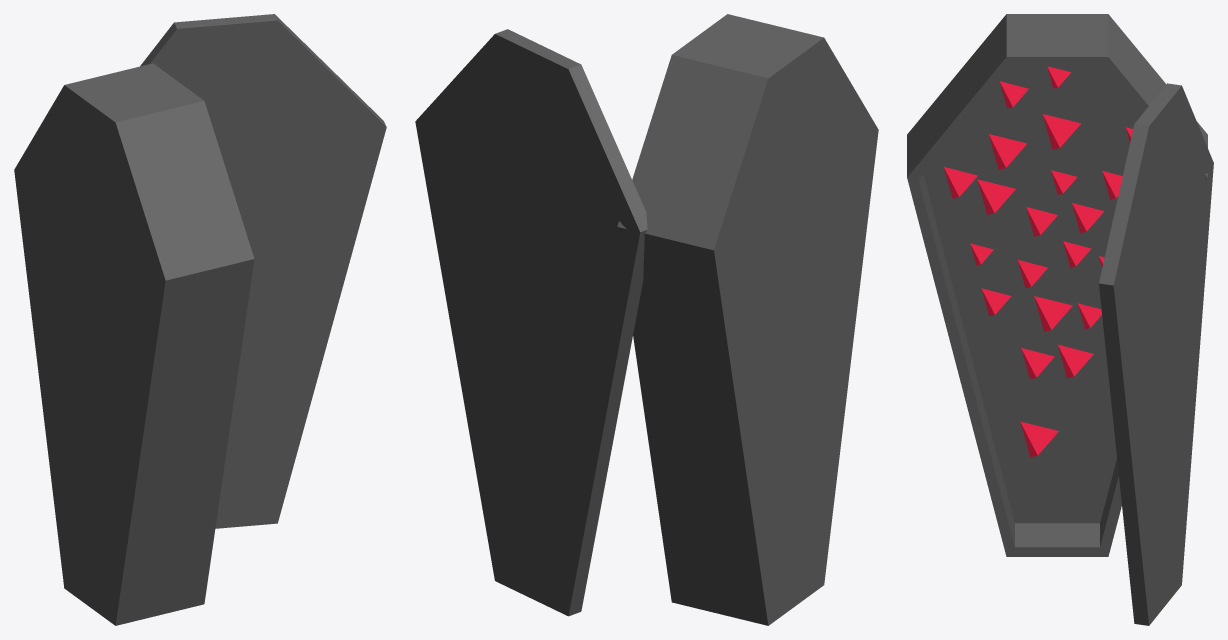
The model's file is torture_StMary.fbx.
3 renders of one model, left to right at view 1: azimuth 30°, elevation 25°; view 2: azimuth 150°, elevation 25°; view 3: azimuth 270°, elevation 25°, orthographic. The views are drawn at different scales.
Parts seen in each view (by area): view 1: StMary; view 2: StMary; view 3: StMary.
Boxes of the visible parts, x1=… form: StMary: x1=14, y1=14, x2=386, y2=625; StMary: x1=415, y1=14, x2=878, y2=625; StMary: x1=907, y1=14, x2=1213, y2=625.
Size of the model in its own units: 725 by 1083 by 602.
